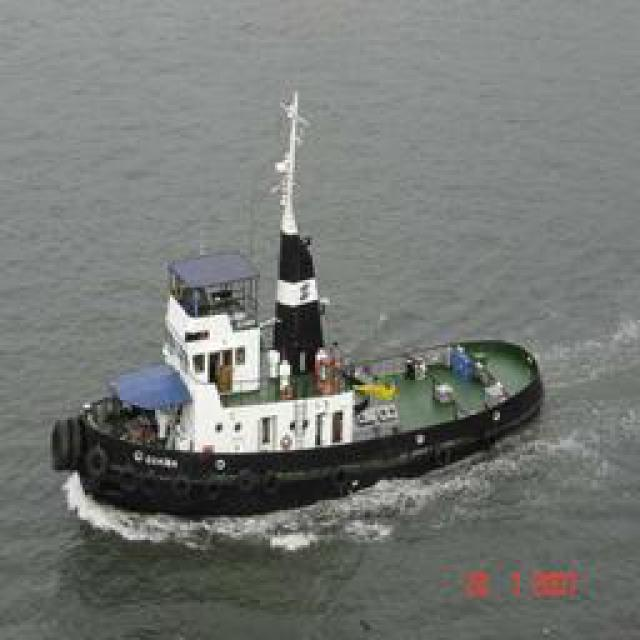Ship: (56, 273, 544, 518)
